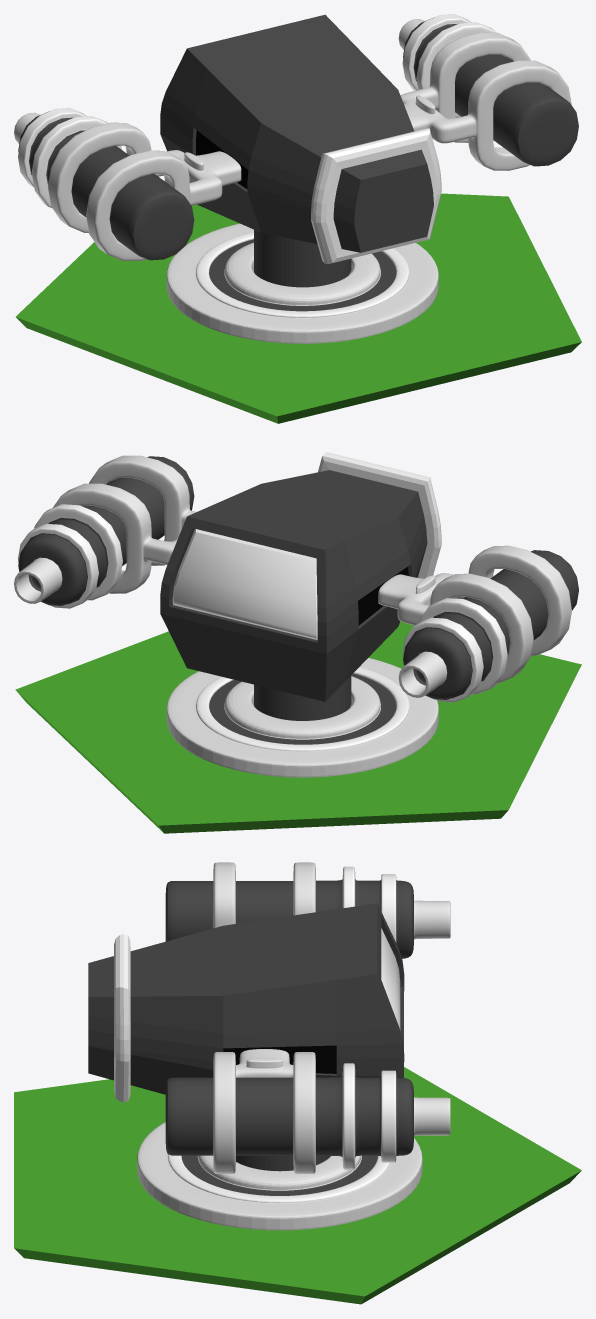
The model's file is Small_turret_5.fbx.
3 views of the same model, one above another, from view 1: azimuth 30°, elevation 25°; view 2: azimuth 150°, elevation 25°; view 3: azimuth 270°, elevation 25° (orthographic). The views are drawn at different scales.
Visible parts, largest first — view 1: DodecagonVideTuile.001, Cube.003, Cube.002, Cylinder.002, Cylinder.003; view 2: DodecagonVideTuile.001, Cube.003, Cube.002, Cylinder.002, Cylinder.003; view 3: DodecagonVideTuile.001, Cube.003, Cube.002, Cylinder.002, Cylinder.003.
Boxes of the visible parts, x1,y1,x2,y2 form: DodecagonVideTuile.001: [16, 193, 581, 423]; Cube.003: [160, 14, 441, 264]; Cube.002: [14, 14, 578, 260]; Cylinder.002: [166, 223, 438, 343]; Cylinder.003: [229, 230, 351, 287]; DodecagonVideTuile.001: [15, 621, 581, 833]; Cube.003: [160, 452, 441, 701]; Cube.002: [14, 455, 578, 702]; Cylinder.002: [166, 658, 438, 777]; Cylinder.003: [254, 675, 351, 720]; DodecagonVideTuile.001: [14, 1067, 581, 1304]; Cube.003: [88, 903, 404, 1102]; Cube.002: [165, 862, 450, 1173]; Cylinder.002: [137, 1122, 422, 1230]; Cylinder.003: [236, 1155, 330, 1171].
Size of the model in its own units: 111 by 50.01 by 105.
